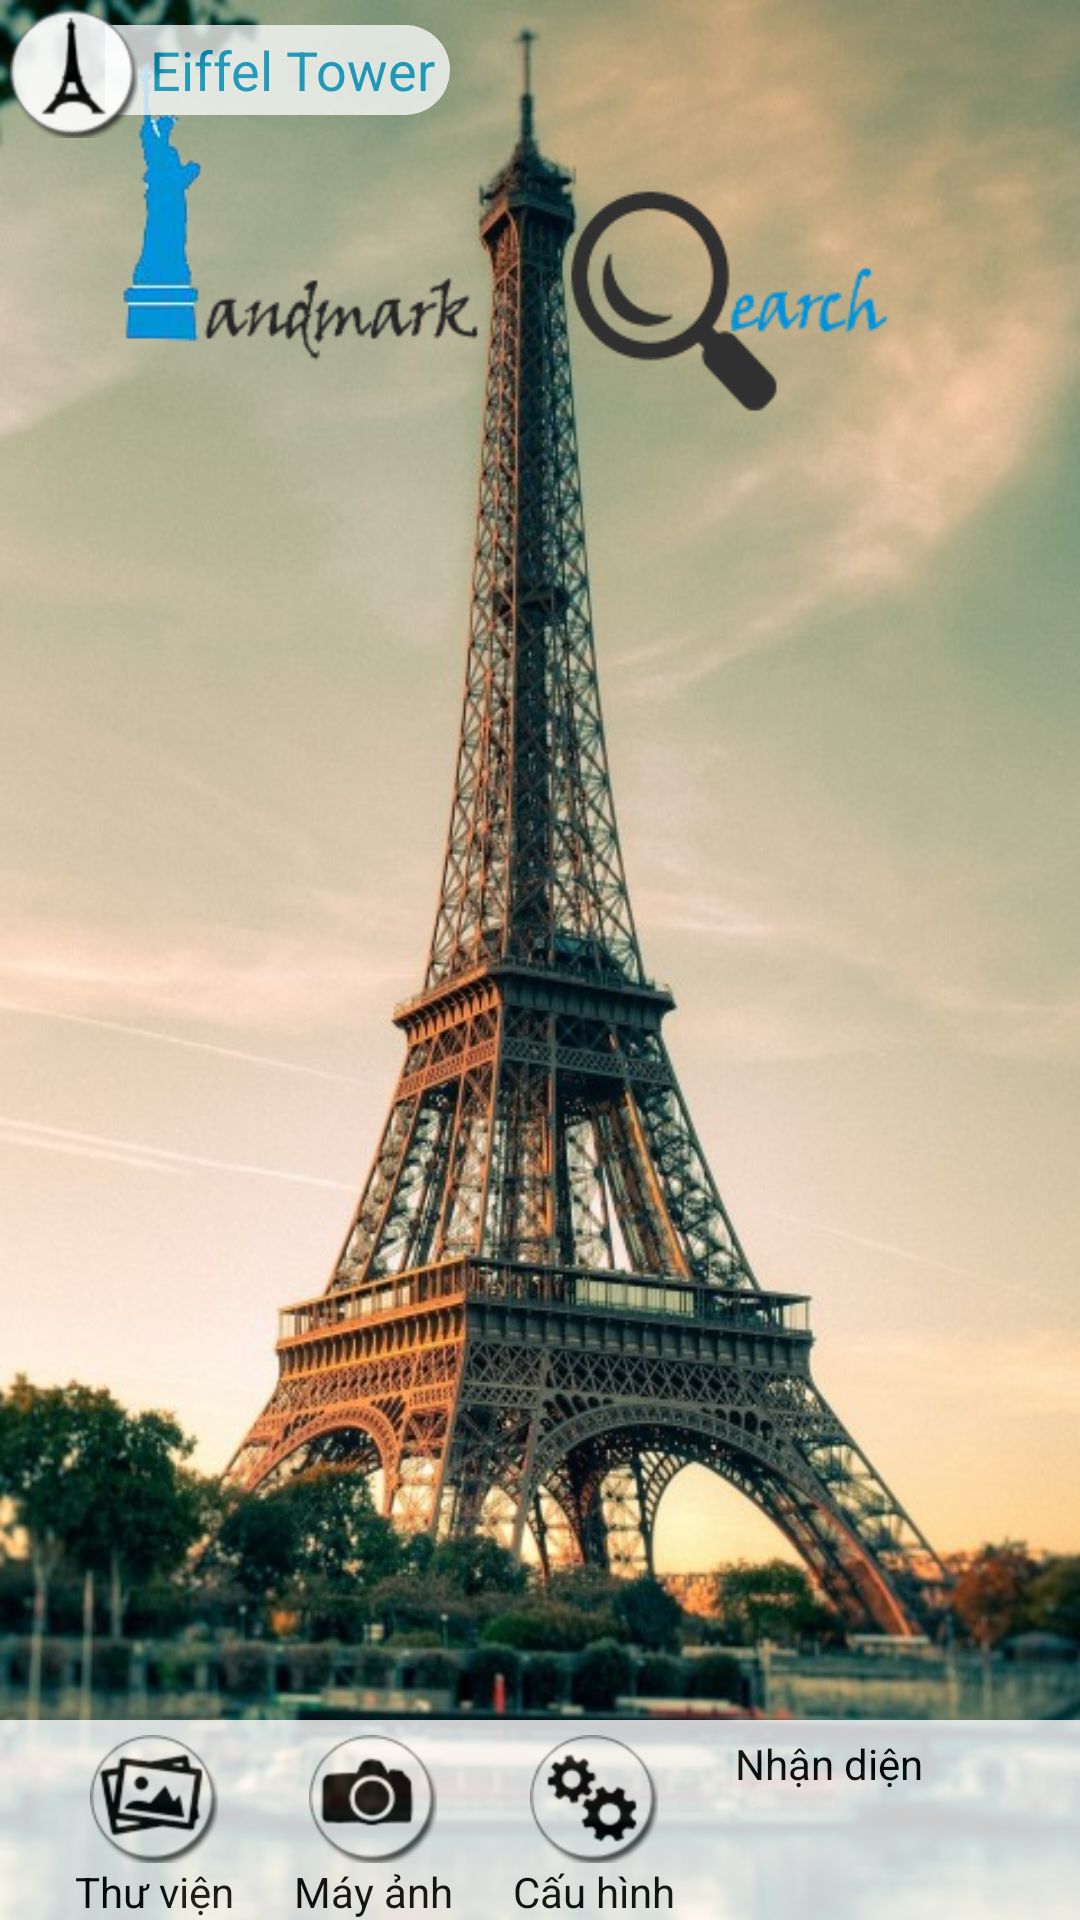

Icons on this 1080*1920 Android screen, each with the point to tap as (x,y):
landmark: (74,74)
